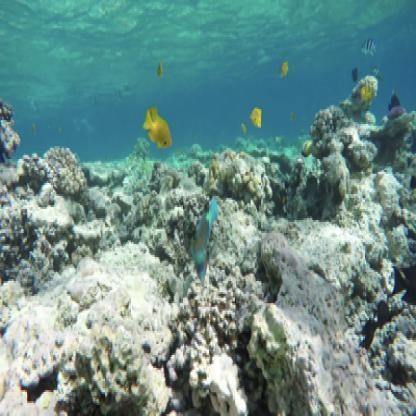Bio: (188, 176, 222, 283), (142, 104, 177, 156)
